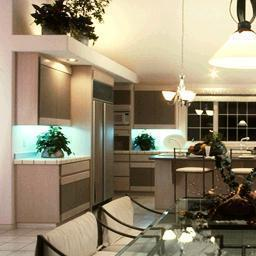Electrodomestico: (91, 105, 115, 203)
